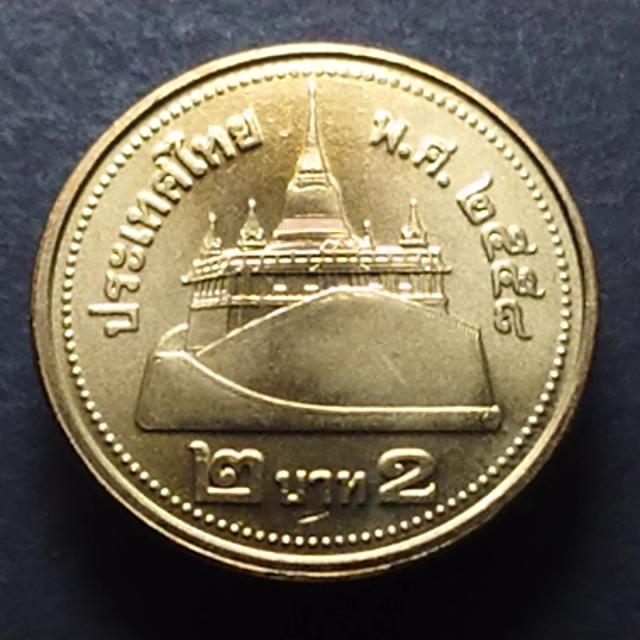2 Bath: (31, 41, 601, 582)
